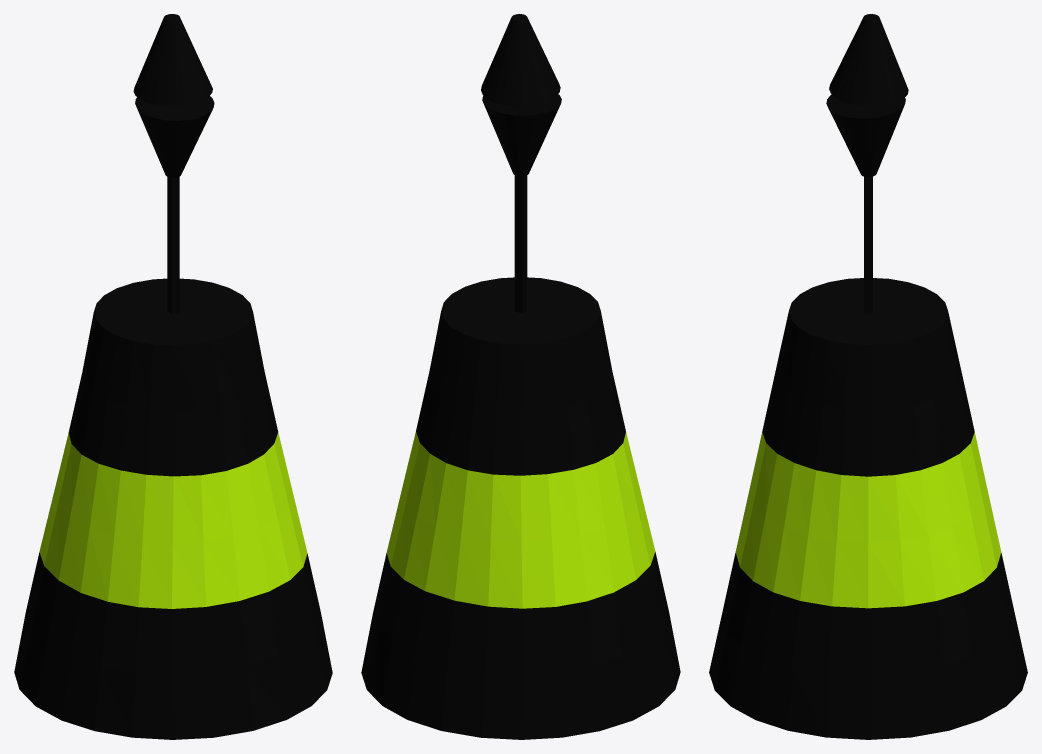
Rendered from Est-3ds.dae.
3 renders of one model, left to right at view 1: azimuth 30°, elevation 25°; view 2: azimuth 150°, elevation 25°; view 3: azimuth 270°, elevation 25°, orthographic.
Visible parts, largest first — view 1: Cone01-FAC; view 2: Cone01-FAC; view 3: Cone01-FAC.
Part boxes in pixels (x1,y1,x2,y2): Cone01-FAC: (14,14,332,739); Cone01-FAC: (361,14,680,739); Cone01-FAC: (709,14,1027,739).
Size of the model in its own units: 102 by 230 by 102.
